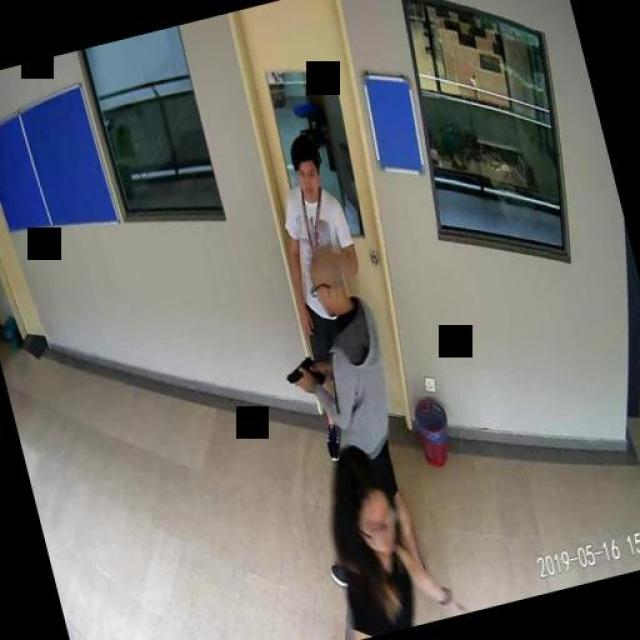gun: (280, 351, 326, 394)
